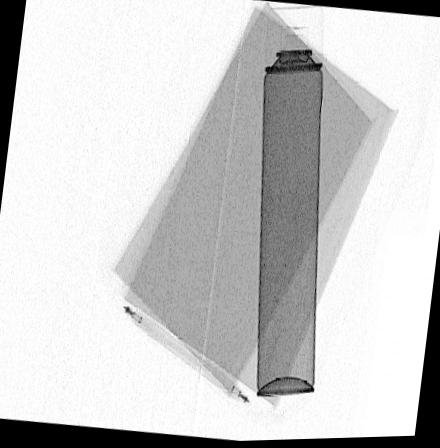Sprayer: (255, 5, 326, 399)
